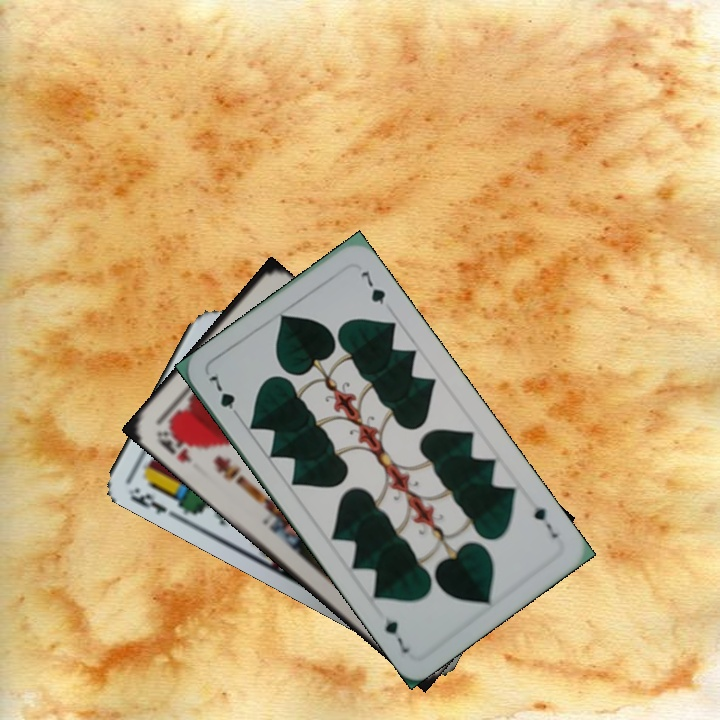EK: (124, 483, 169, 516)
G7: (204, 371, 244, 422), (530, 502, 562, 541)
HK: (152, 423, 194, 466)
